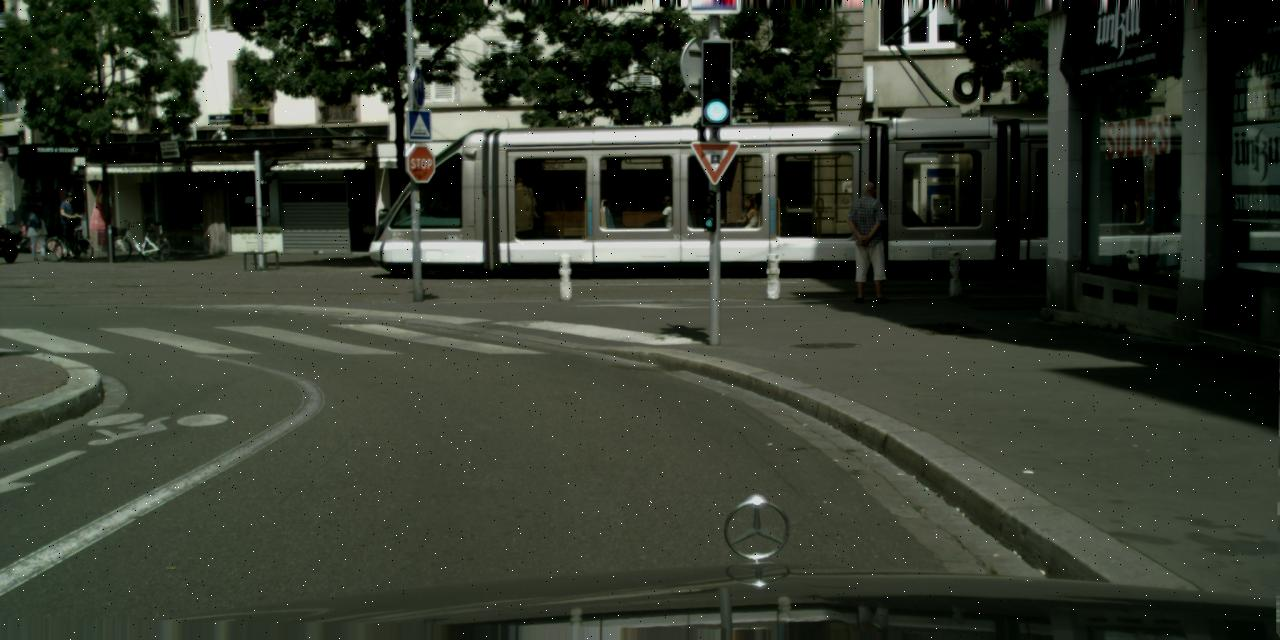ped: (844, 182, 893, 302), (56, 191, 82, 257), (28, 206, 51, 261)
